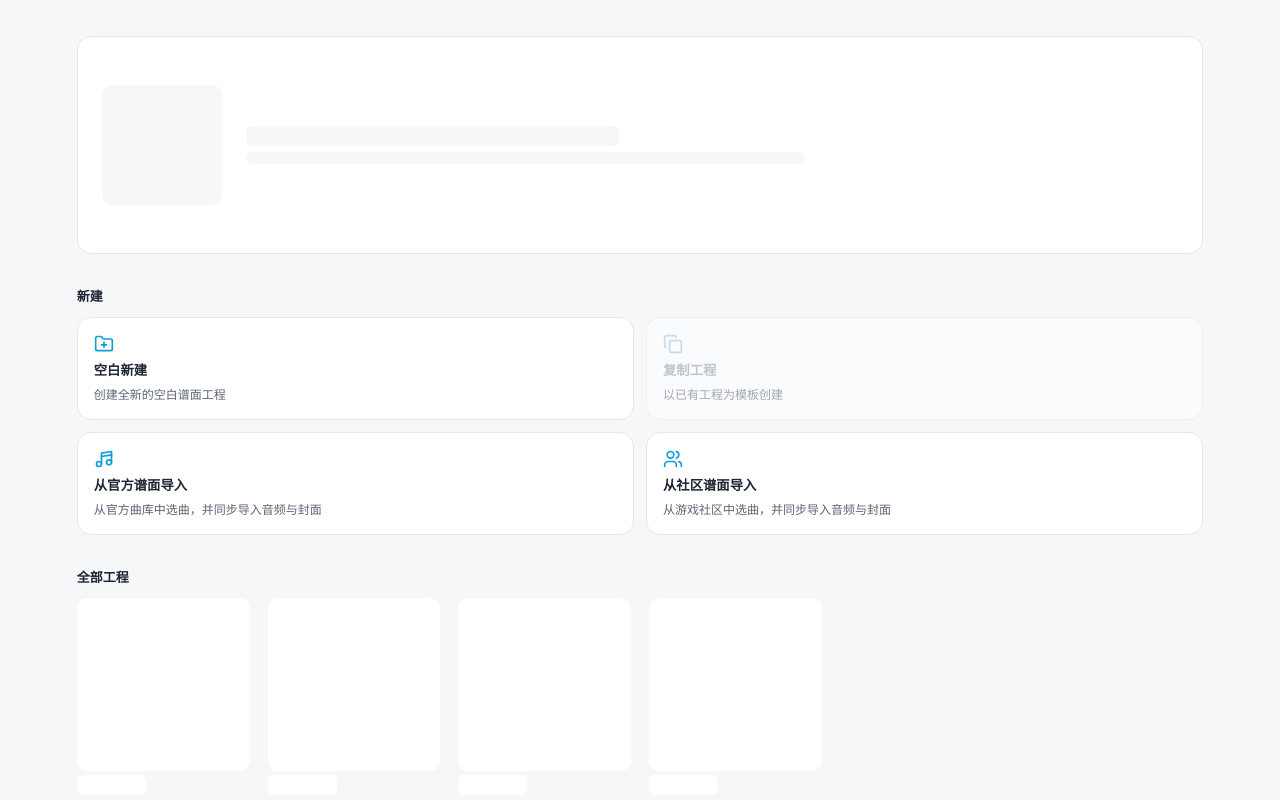
票 12 · 新建入口四项归类 › 社区那一支：切过去是同一颗 lg 窗，帖子列表就位；未选中时「创建」禁用
This screenshot has width=1280, height=800.
Check: the heading "全部工程" is shown, box top-left (77, 567), bottom-right (129, 586)
Click the button "空白新建 创建全新的空白谱面工程": (120, 370) top-left (77, 317), bottom-right (634, 420)
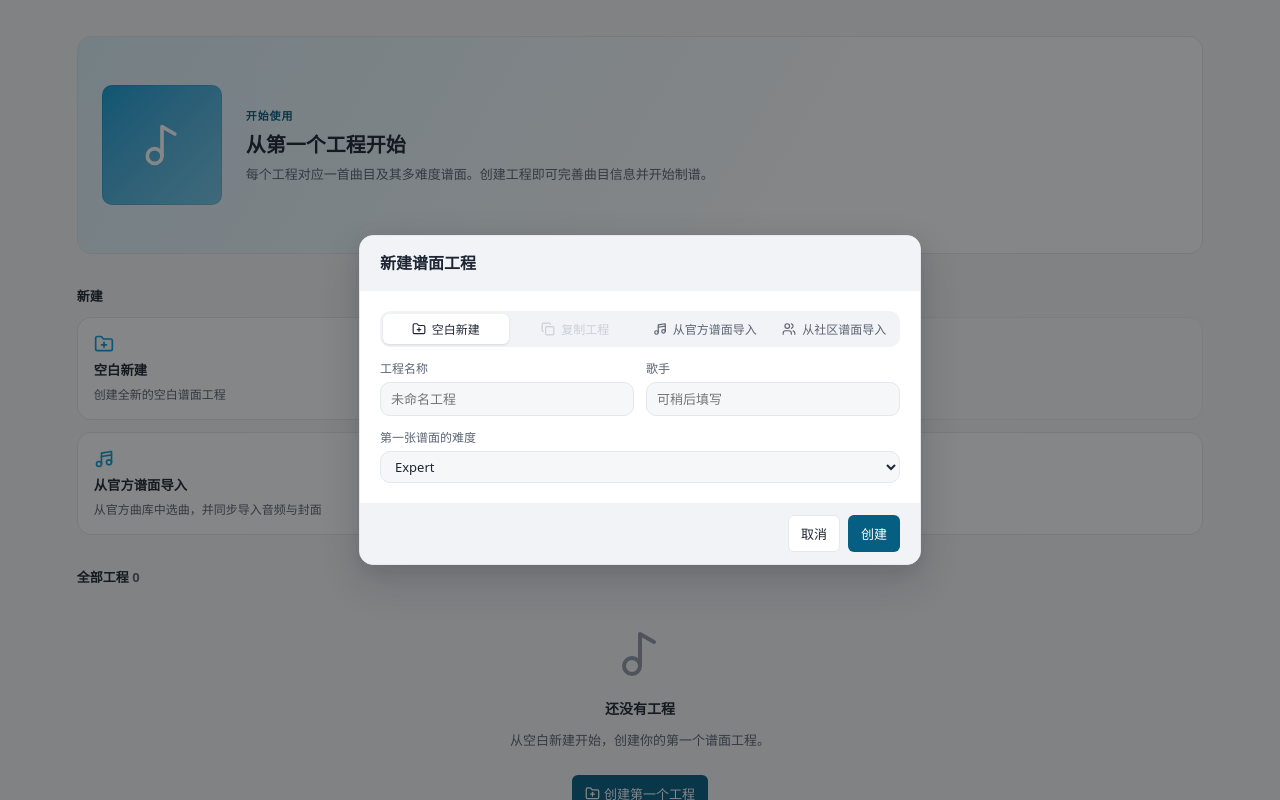
Click the button "从社区谱面导入": (834, 329) top-left (772, 314), bottom-right (897, 344)
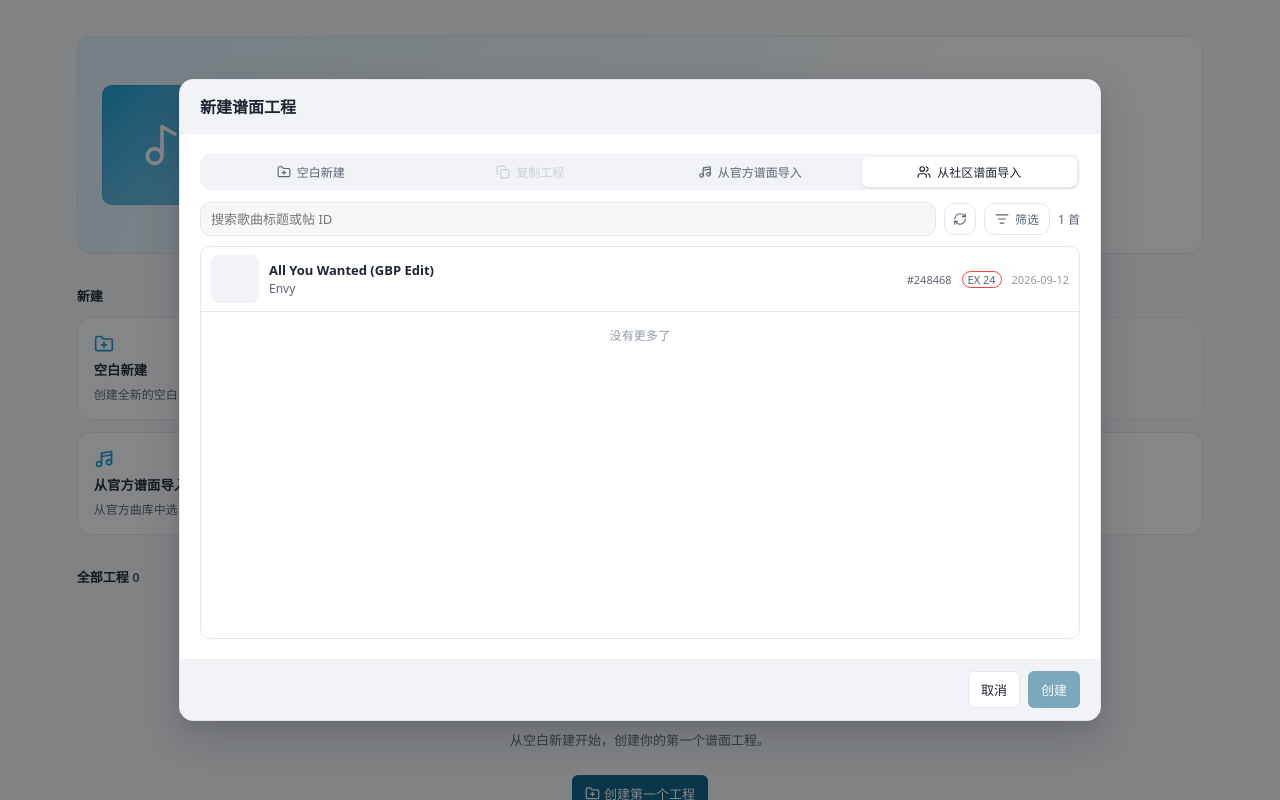
Check: the text "All You Wanted (GBP Edit)" is shown, box top-left (269, 261), bottom-right (434, 279)
Check: the text "Envy" is shown, box top-left (269, 280), bottom-right (295, 297)
Check: the button "创建" is disabled, box top-left (1028, 671), bottom-right (1080, 708)
